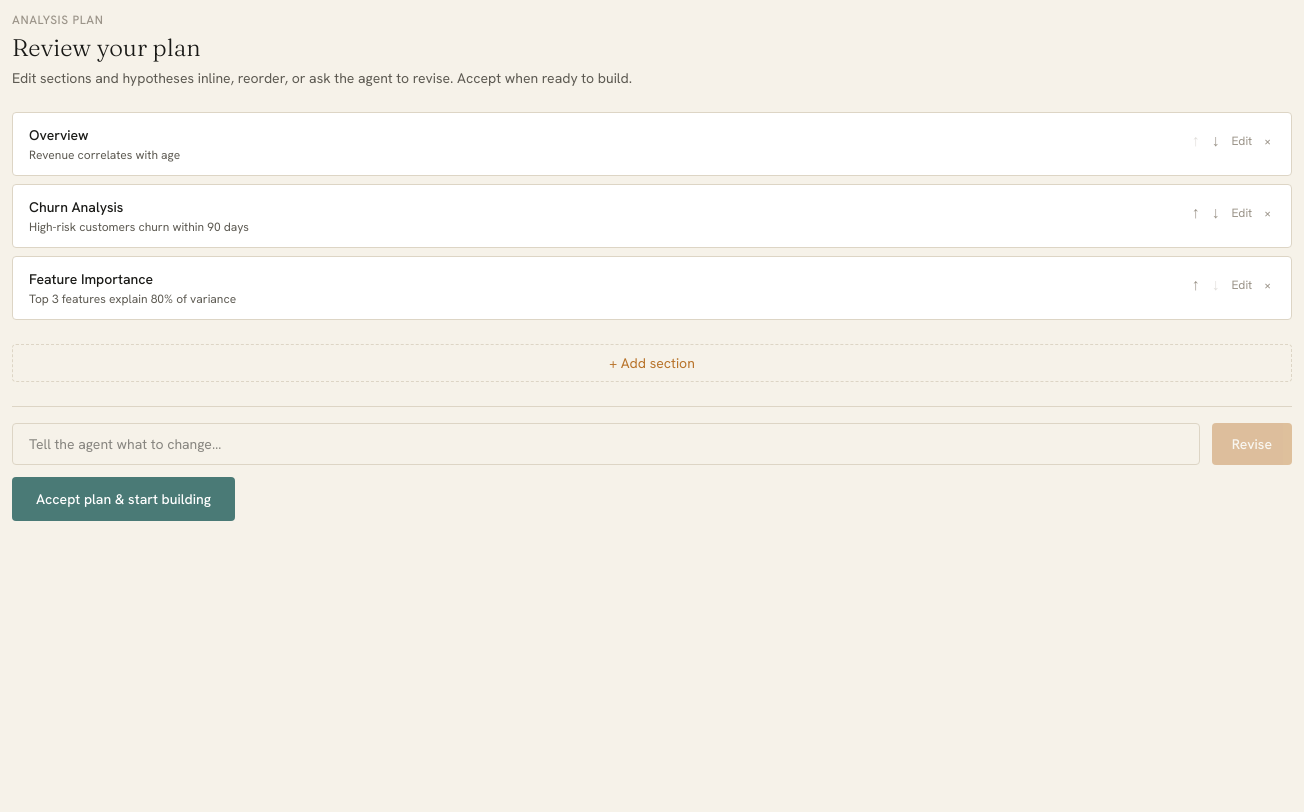
Test: PlanView › api.postPlanUpdate failure shows plan-error banner
# Trigger a drop which calls postPlanUpdate
Click the button with test id "plan-drop-sec_02" at (1268, 213), box [1260, 201, 1275, 225]
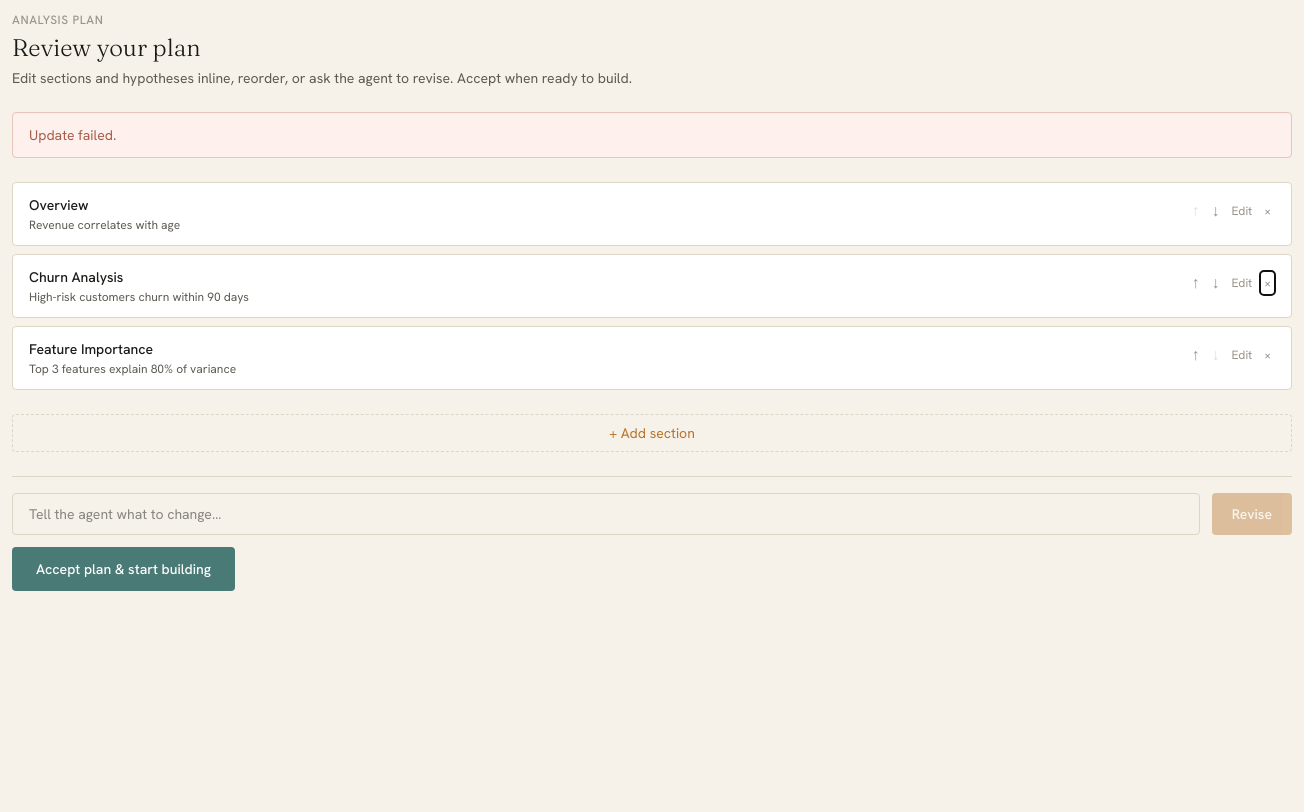
Expected: the text "Update failed." is shown, [12, 112, 1292, 158]
Expected: the text with test id "plan-error" reads "Update failed.", [29, 126, 116, 144]
